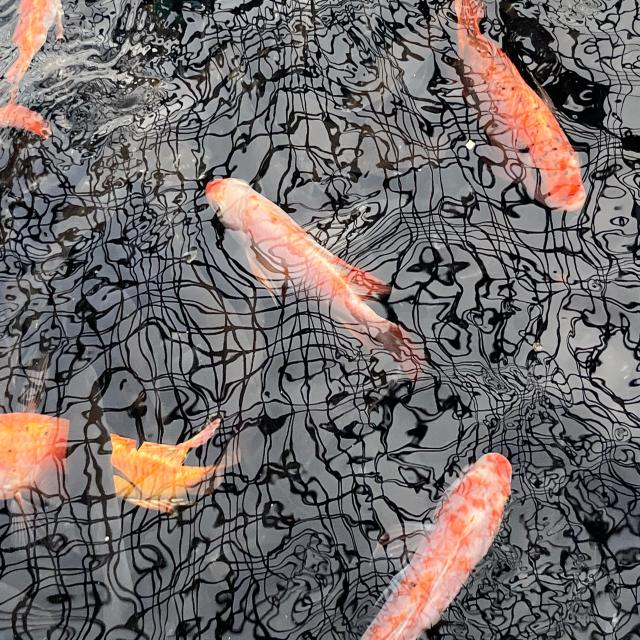ikan: (184, 164, 415, 345), (356, 425, 518, 635), (454, 21, 598, 213), (8, 400, 210, 533)
